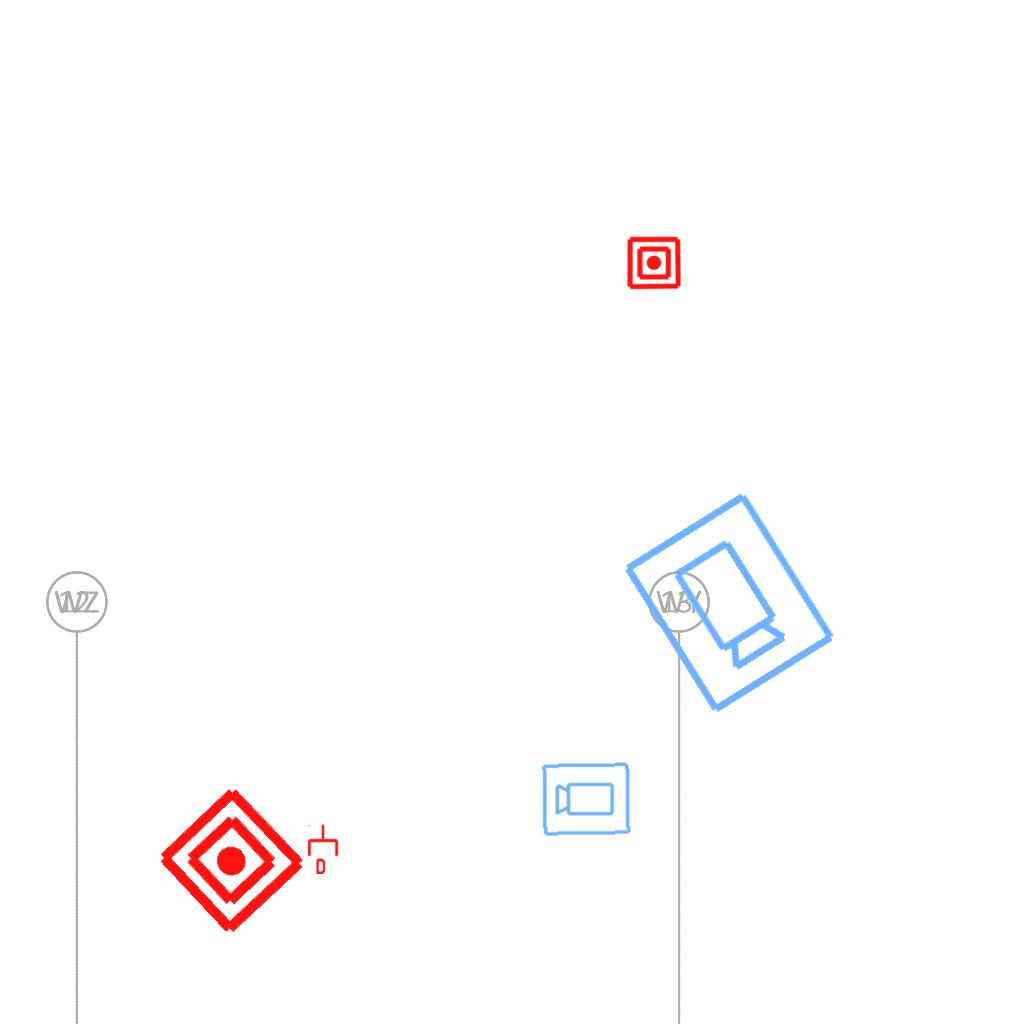Datenanschluss_einfach: (306, 824, 340, 874)
KFO_Kamera_mit_Festobjektiv: (614, 485, 842, 721), (540, 759, 633, 838)
NAM-Nichtautomatischer_Melder: (151, 780, 312, 941), (626, 235, 682, 291)
